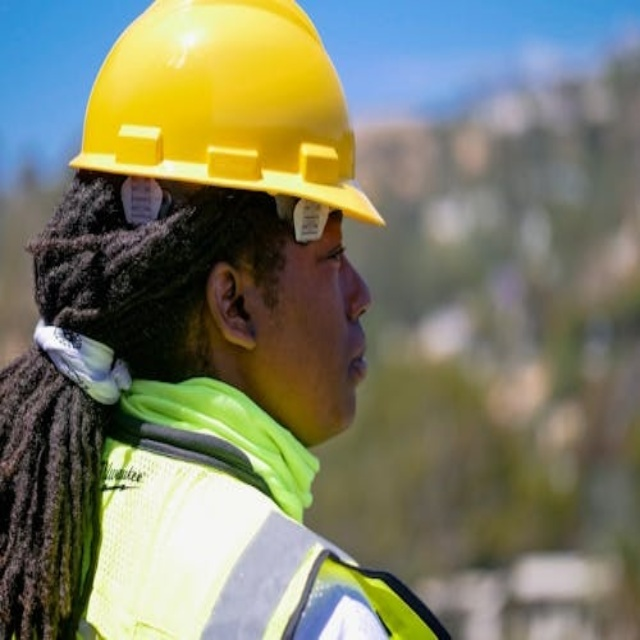Sin_gafas: (282, 220, 360, 276)
Sin_mascara: (307, 329, 376, 428)
